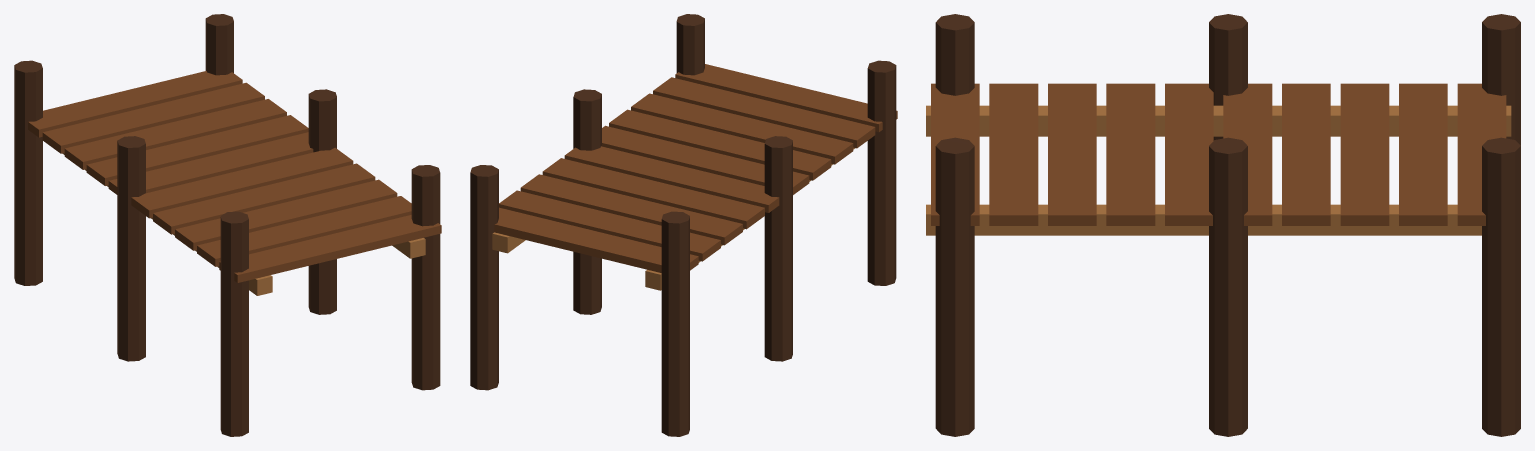
The model's file is Docklvl1.fbx.
3 views of the same model, side by side, from view 1: azimuth 30°, elevation 25°; view 2: azimuth 150°, elevation 25°; view 3: azimuth 270°, elevation 25° (orthographic). The views are drawn at different scales.
Visible parts, largest first — view 1: DESZKAK; view 2: DESZKAK; view 3: DESZKAK.
Boxes of the visible parts, <box> form: DESZKAK: <box>14,14,441,436</box>; DESZKAK: <box>470,14,897,436</box>; DESZKAK: <box>926,14,1520,436</box>.
Size of the model in its own units: 1.7 by 1.6 by 3.05.
1 material, 1 textured.
